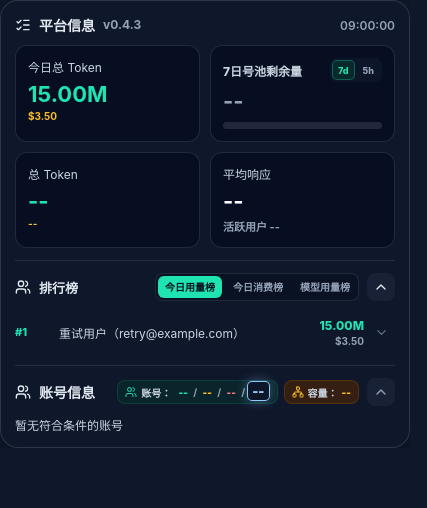
App settings sync › retries a failed ranking user model request when the row is expanded again
This screenshot has width=427, height=508.
Click the button with class "ranking-row". click: (202, 332)
box: [15,311,389,353]
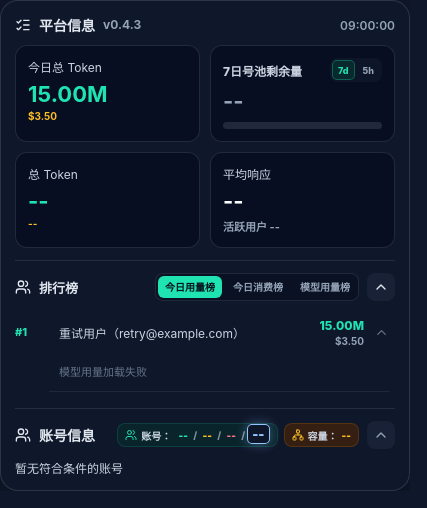
Check: the text "模型用量加载失败" is shown, box [59,365,147,379]
Click the button with class "ranking-row". click: (202, 332)
box: [15,311,389,353]
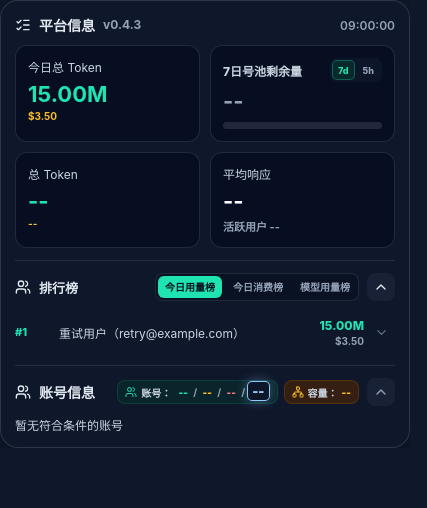
Click the button with class "ranking-row". click: (202, 332)
box: [15,311,389,353]
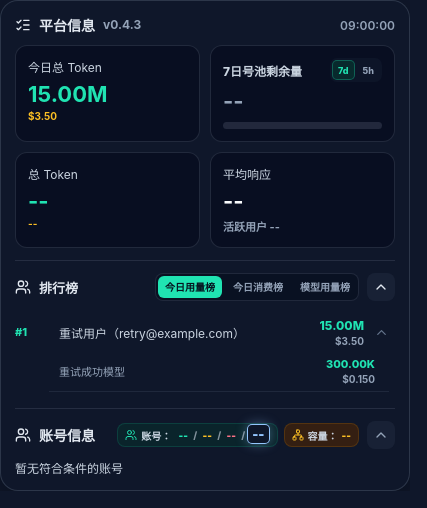
Check: the text "模型用量加载失败" is not shown
Check: the text "重试成功模型" is shown, box [59,365,125,379]
